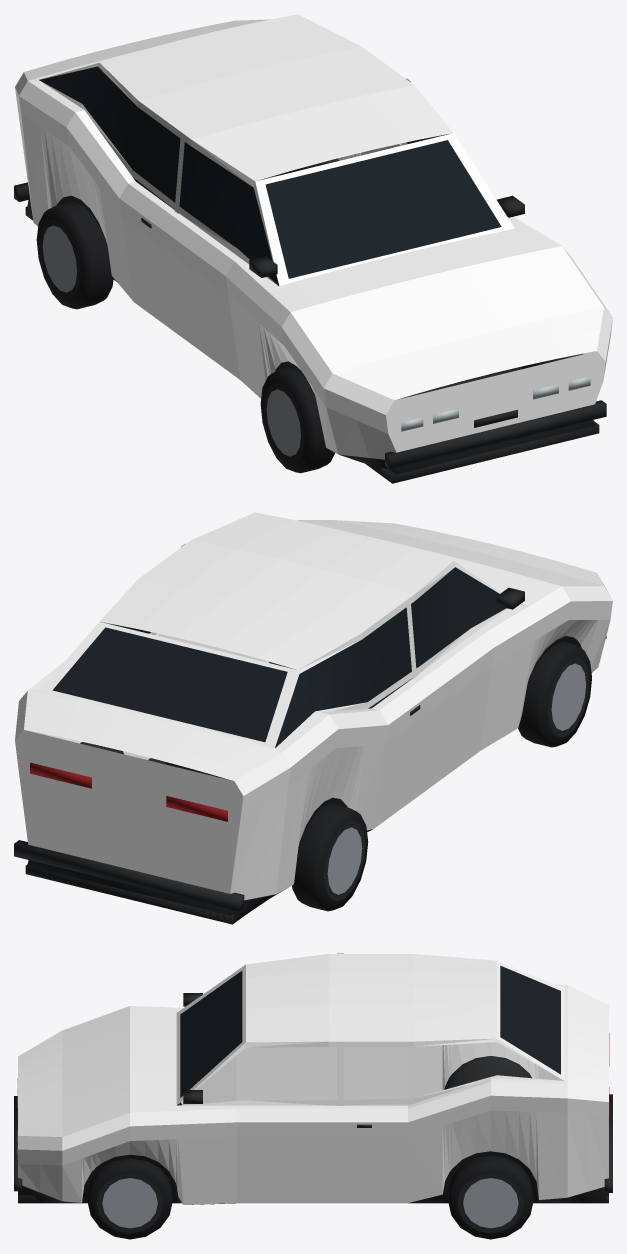
Rendered from feldhaus_palheta.glb.
3 views of the same model, one above another, from view 1: azimuth 30°, elevation 25°; view 2: azimuth 150°, elevation 25°; view 3: azimuth 270°, elevation 25° (orthographic). The views are drawn at different scales.
Visible parts, largest first — view 1: Body_Paint, Body_Details, Mount_RearLeft_Wheel_Details, Mount_FrontLeft_Wheel_Details; view 2: Body_Paint, Body_Details, Mount_RearLeft_Wheel_Details, Mount_FrontLeft_Wheel_Details; view 3: Body_Paint, Body_Details, Mount_RearRight_Wheel_Details, Mount_FrontRight_Wheel_Details.
Boxes of the visible parts, box(x1,y1,x2,y2) form: Body_Paint: box(15, 14, 612, 459); Body_Details: box(14, 66, 606, 483); Mount_RearLeft_Wheel_Details: box(36, 201, 113, 309); Mount_FrontLeft_Wheel_Details: box(260, 367, 335, 473); Body_Paint: box(15, 512, 612, 900); Body_Details: box(14, 567, 606, 924); Mount_RearLeft_Wheel_Details: box(292, 803, 368, 911); Mount_FrontLeft_Wheel_Details: box(518, 641, 591, 747); Body_Paint: box(18, 953, 608, 1204); Body_Details: box(14, 965, 612, 1204); Mount_RearRight_Wheel_Details: box(448, 1155, 533, 1239); Mount_FrontRight_Wheel_Details: box(87, 1158, 172, 1239).
Size of the model in its own units: 1.79 by 1.4 by 3.98.
2 materials, 1 textured.
